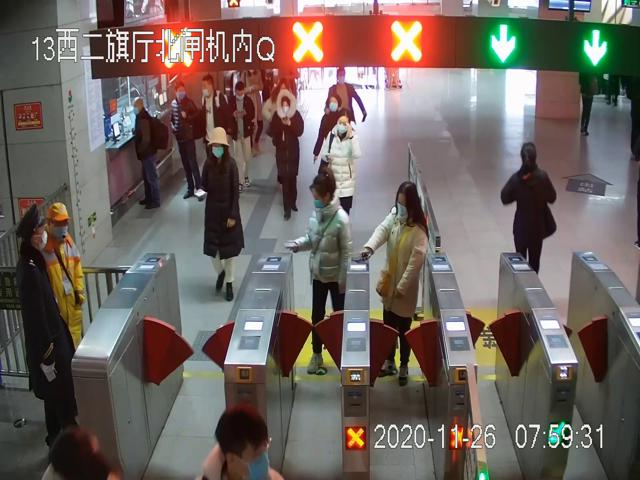person: (11, 202, 67, 447), (367, 168, 427, 388), (294, 170, 351, 372), (43, 201, 93, 379), (197, 132, 249, 298), (502, 138, 554, 290), (123, 91, 172, 212), (169, 78, 205, 200), (329, 114, 360, 251), (271, 90, 302, 223), (226, 81, 261, 195), (324, 70, 370, 143), (200, 76, 230, 175), (317, 91, 344, 185), (267, 73, 294, 159)
